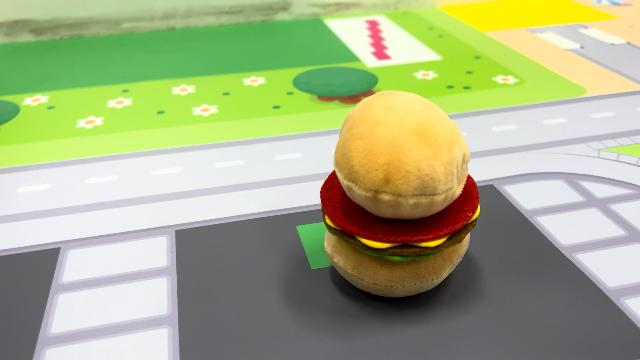burger: (316, 86, 484, 300)
